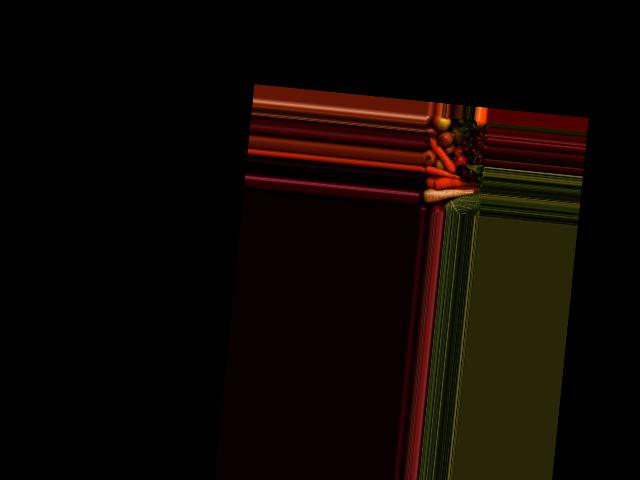carrot: (432, 177, 477, 189)
